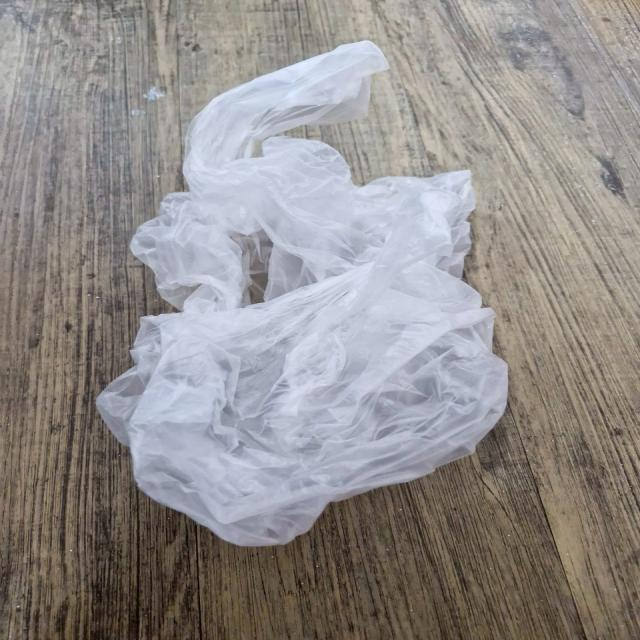plastic bag: (77, 33, 510, 551)
